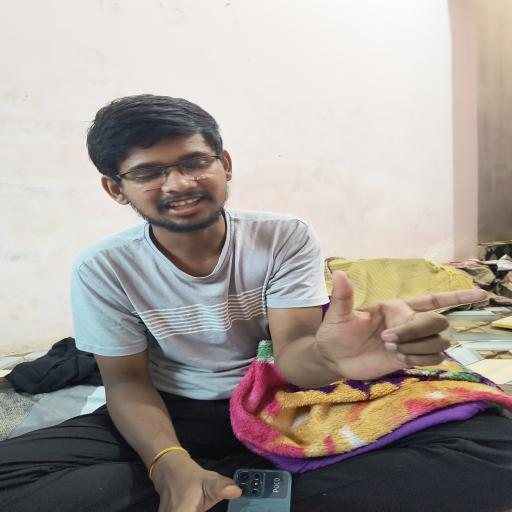Sorry: (298, 260, 498, 400)
